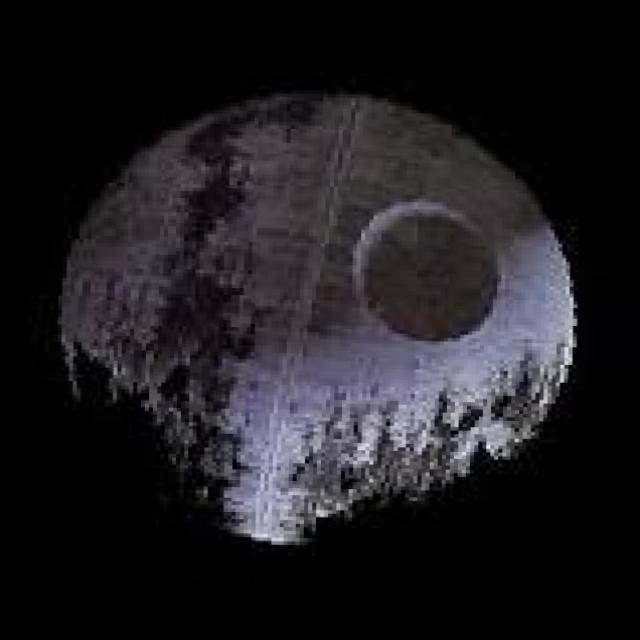Death Star: (48, 80, 588, 560)
